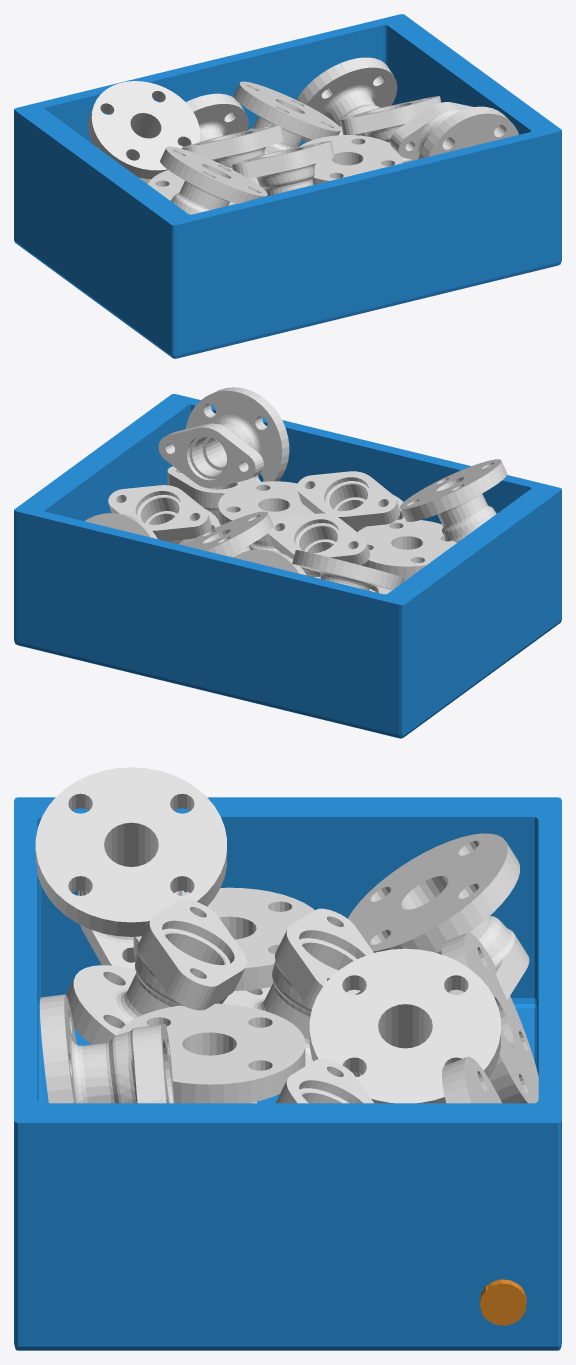
The model's file is Bin_with_body_Blue.glb.
3 renders of one model, top to bottom at view 1: azimuth 30°, elevation 25°; view 2: azimuth 150°, elevation 25°; view 3: azimuth 270°, elevation 25°, orthographic. The views are drawn at different scales.
Parts seen in each view (by area): view 1: Bin, Body.002, Body.001, Body.011, Body.004, Body.010, Body.012, Body.013, Body.008, Body.009, Body.007, Body.003; view 2: Bin, Body.001, Body.004, Body.012, Body.009, Body.003, Body.008, Body.013, Body.010, Body.002, Body.005, Body.011 (+1 smaller); view 3: Bin, Body.004, Body.010, Body.002, Body.012, Body.013, Body.001, Body.008, Body.003, Body.007, Body.009, Body.011 (+1 smaller).
Boxes of the visible parts, <box> form: Bin: <box>14,14,561,358</box>; Body.002: <box>88,81,200,178</box>; Body.001: <box>390,102,518,159</box>; Body.011: <box>296,57,397,142</box>; Body.004: <box>160,146,267,214</box>; Body.010: <box>233,81,340,154</box>; Body.012: <box>231,141,334,196</box>; Body.013: <box>299,135,403,184</box>; Body.008: <box>181,124,284,185</box>; Body.009: <box>340,96,441,162</box>; Body.007: <box>182,93,248,146</box>; Body.003: <box>148,167,258,205</box>; Bin: <box>14,394,561,738</box>; Body.001: <box>158,387,289,487</box>; Body.004: <box>400,459,507,542</box>; Body.012: <box>297,471,404,531</box>; Body.009: <box>108,485,220,545</box>; Body.003: <box>357,519,457,581</box>; Body.008: <box>268,513,369,577</box>; Body.013: <box>218,481,314,552</box>; Body.010: <box>183,511,273,557</box>; Body.002: <box>292,550,403,590</box>; Body.005: <box>167,466,259,518</box>; Body.011: <box>85,513,157,538</box>; Bin: <box>14,797,561,1350</box>; Body.004: <box>35,767,226,969</box>; Body.010: <box>309,948,500,1103</box>; Body.002: <box>347,833,529,999</box>; Body.012: <box>66,899,246,1044</box>; Body.013: <box>116,1003,305,1103</box>; Body.001: <box>40,994,174,1103</box>; Body.008: <box>222,908,373,1065</box>; Body.003: <box>133,887,314,990</box>; Body.007: <box>442,932,538,1103</box>; Body.009: <box>276,1059,373,1103</box>; Body.011: <box>442,1056,501,1103</box>.
Bounding box in the file's own units: 0.399 × 0.1638 × 0.28.
